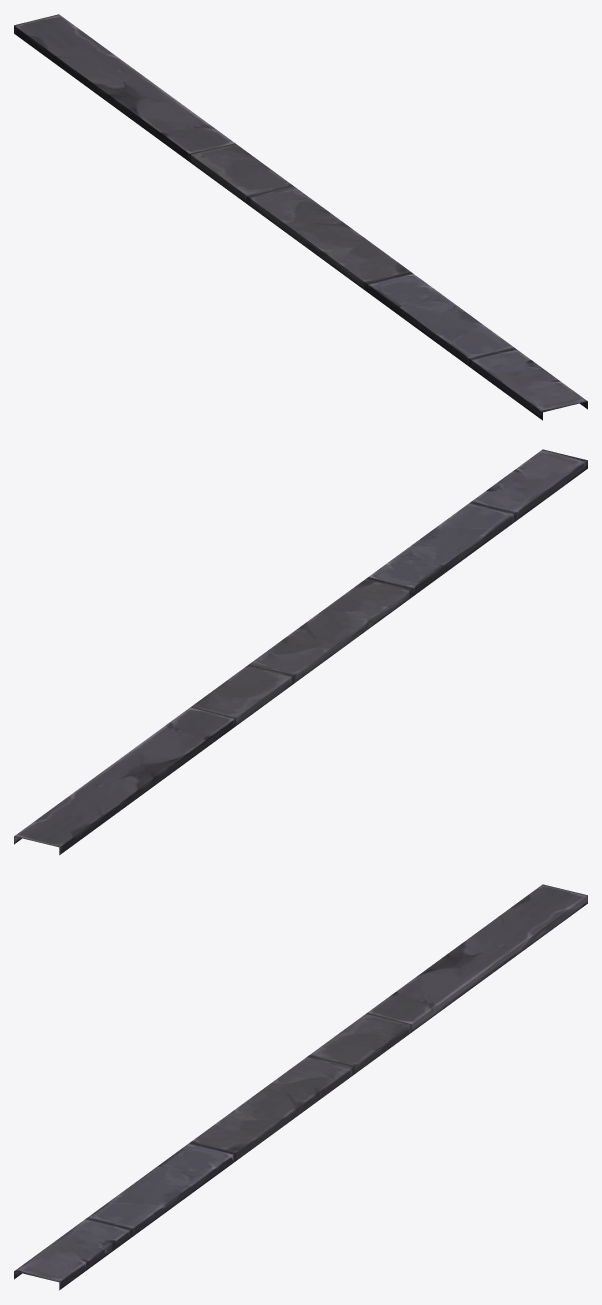
Rendered from cs_zhucheng_tiaoshi_001.FBX.
The picture shows the model from 3 angles, top to bottom: view 1: azimuth 30°, elevation 25°; view 2: azimuth 150°, elevation 25°; view 3: azimuth 330°, elevation 25°; orthographic projection.
Parts seen in each view (by area): view 1: cs_zhucheng_tiaoshi_001; view 2: cs_zhucheng_tiaoshi_001; view 3: cs_zhucheng_tiaoshi_001.
Boxes of the visible parts, box(x1,y1,x2,y2) form: cs_zhucheng_tiaoshi_001: box(14, 14, 587, 420); cs_zhucheng_tiaoshi_001: box(14, 449, 587, 855); cs_zhucheng_tiaoshi_001: box(14, 884, 587, 1290).
Size of the model in its own units: 24.14 by 490 by 4.23.
